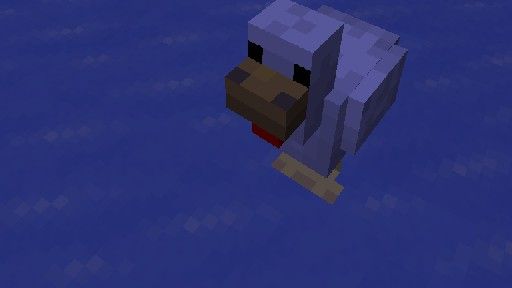chicken: (223, 0, 407, 204)
